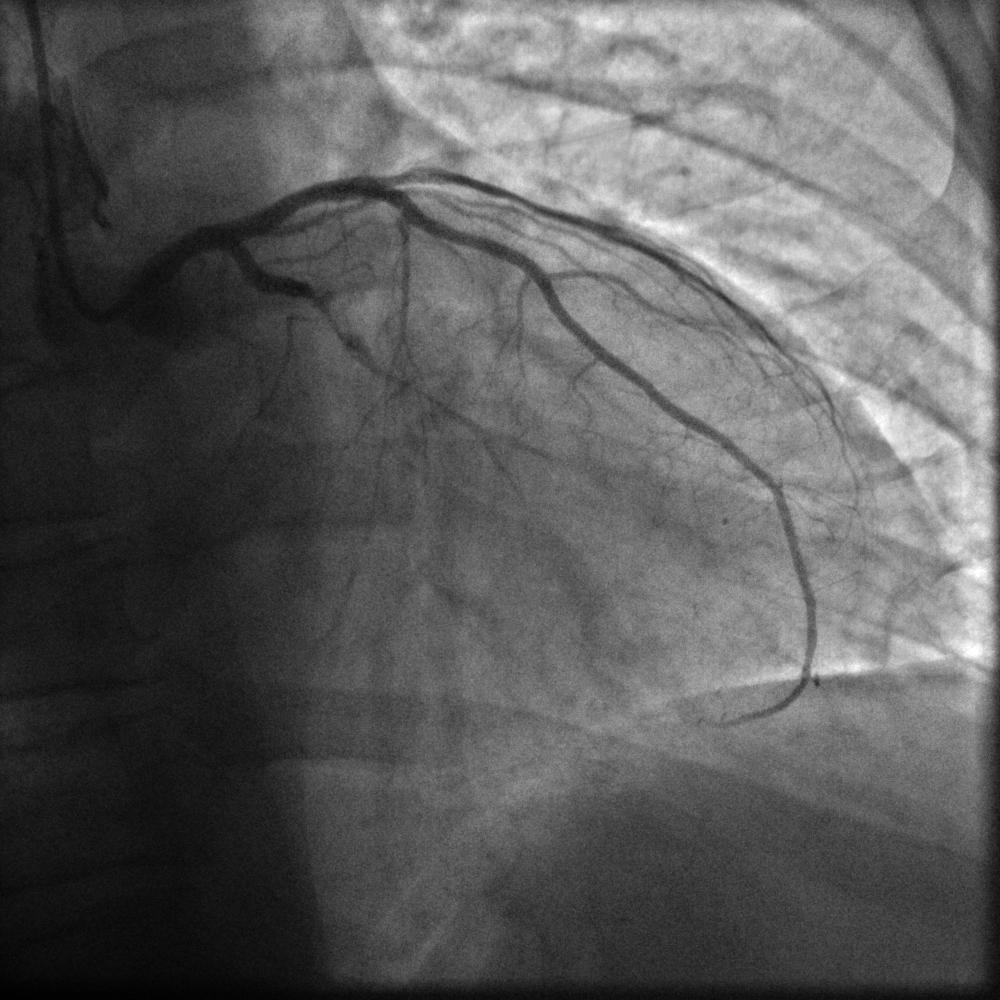Stenosis: (303, 283, 348, 343)
